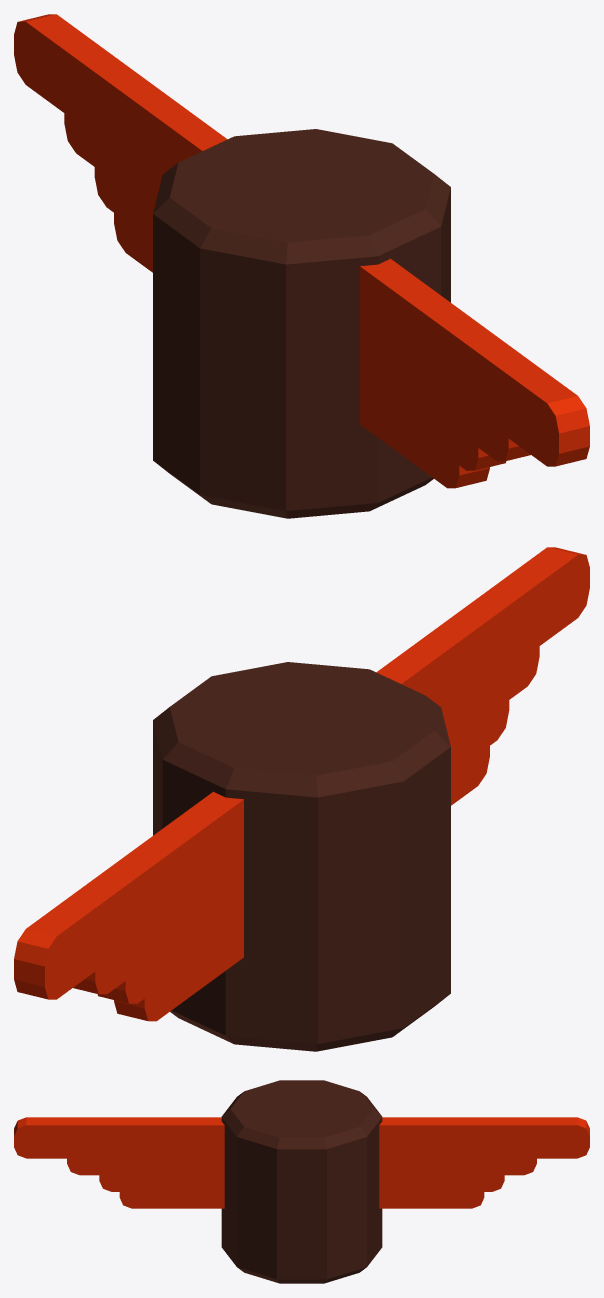
The model's file is SM_Totem_002.fbx.
3 renders of one model, top to bottom at view 1: azimuth 30°, elevation 25°; view 2: azimuth 150°, elevation 25°; view 3: azimuth 270°, elevation 25°, orthographic. The views are drawn at different scales.
Visible parts, largest first — view 1: Totem_01; view 2: Totem_01; view 3: Totem_01.
Part boxes in pixels (x1,y1,x2,y2): Totem_01: (14, 14, 589, 518); Totem_01: (14, 547, 589, 1051); Totem_01: (14, 1080, 589, 1283).
Bounding box in the file's own units: 47.55 × 50 × 179.
